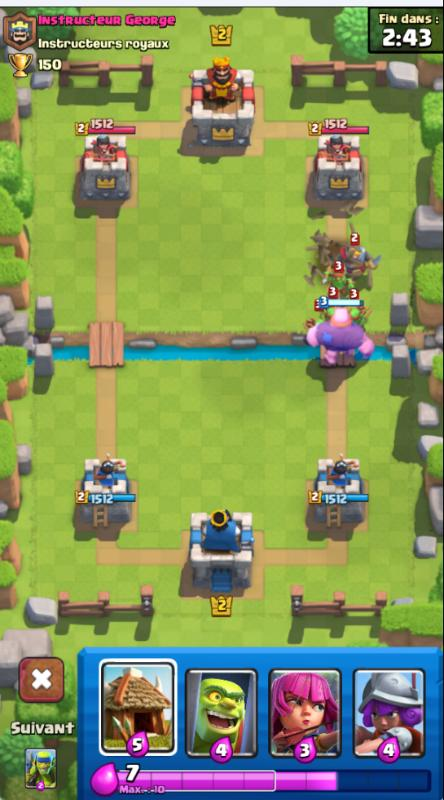chevalier: (334, 233, 383, 279)
geant: (305, 296, 374, 365)
gobelin_lances: (322, 264, 356, 297), (314, 298, 339, 330), (346, 305, 372, 335)
